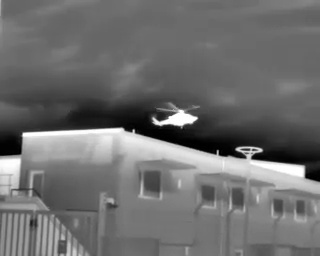HELICOPTER: (150, 96, 207, 134)
